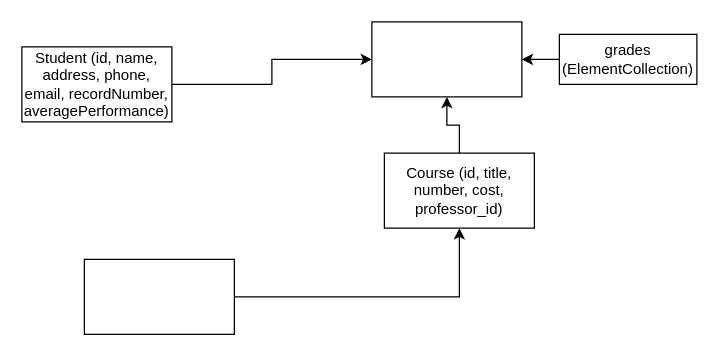
The diagram is 719 pixels wide and 356 high, and some of its shapes have lost their labels. Here are the shapes that lost their labels. From the top down, the centre of each, then its label:
At (x=446, y=59): "Enrollment(id, student_id, course_id)".
At (x=158, y=296): "Professor (id, name, address, phone, salary)".
